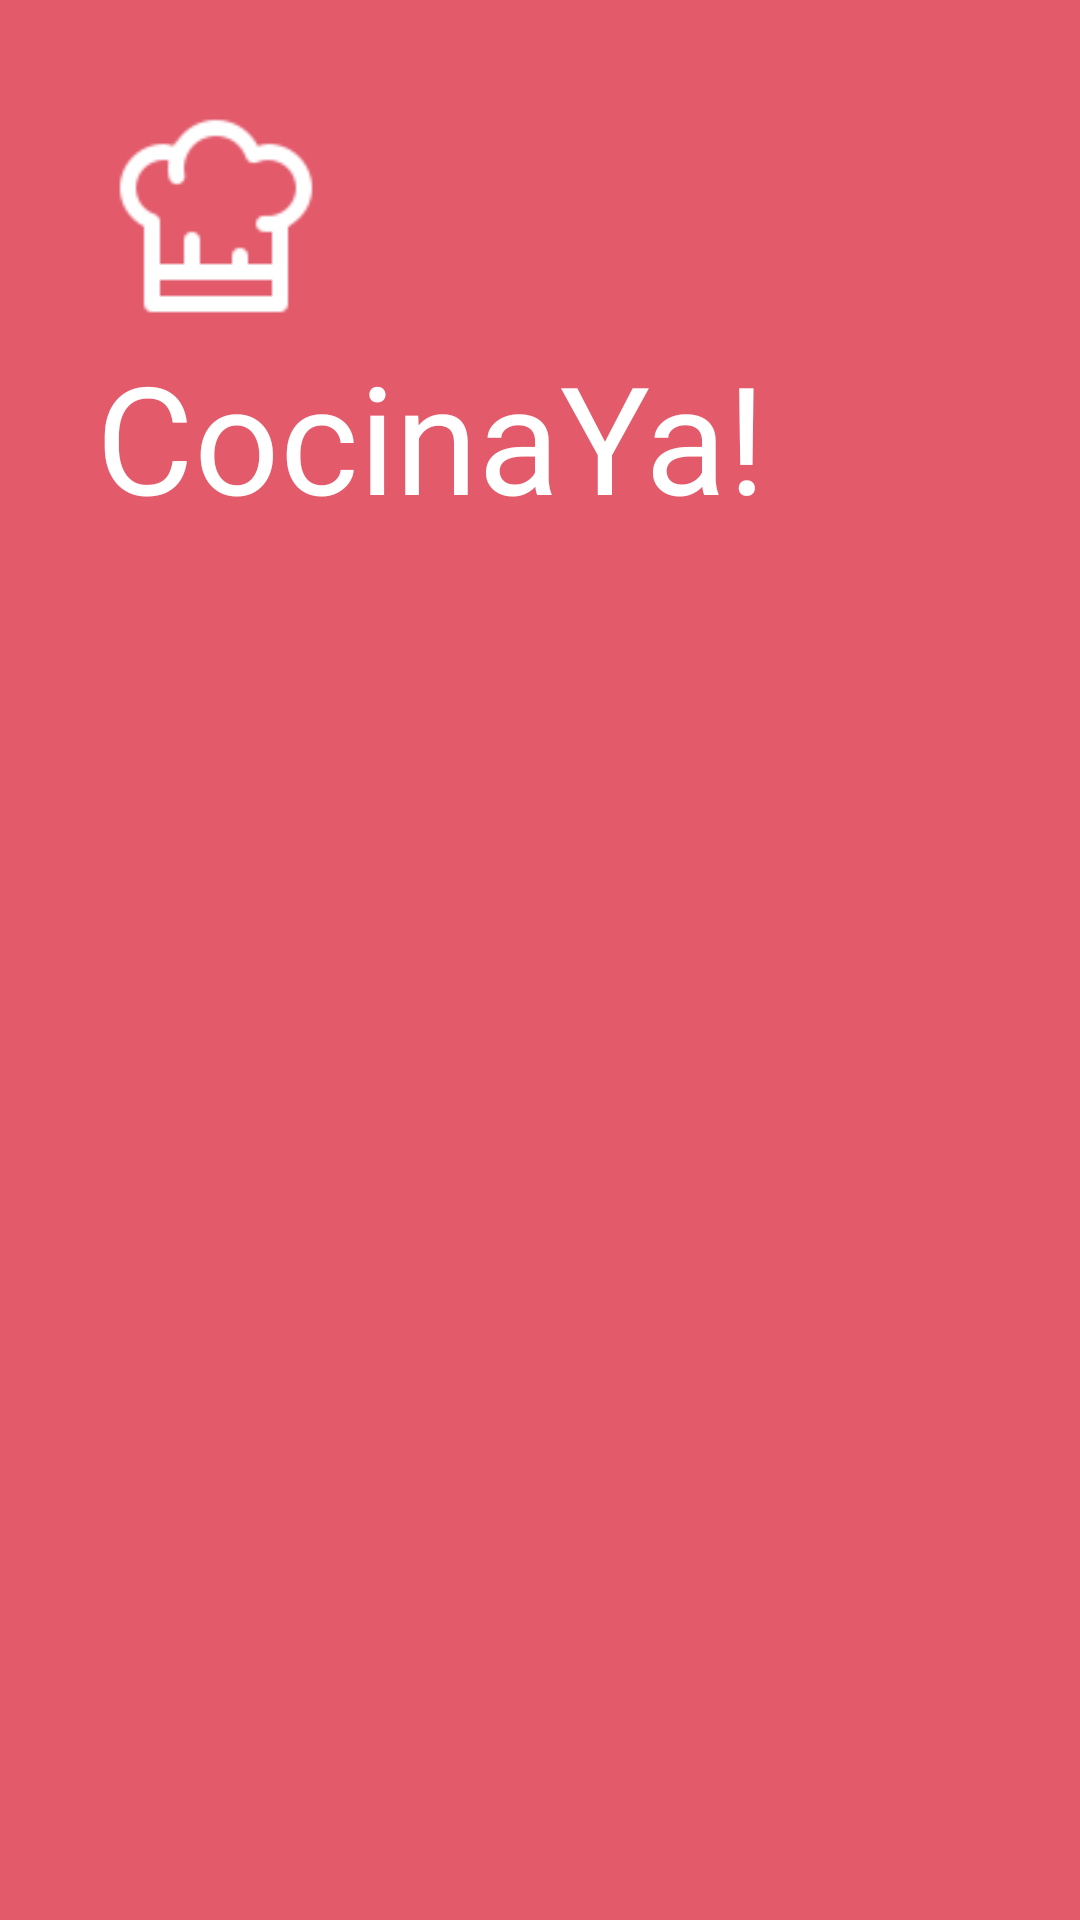

Where icons sit on this 1080w x 1920h app screen, as (x1, y1, x2, y2):
chef hat: (119, 119, 313, 313)
